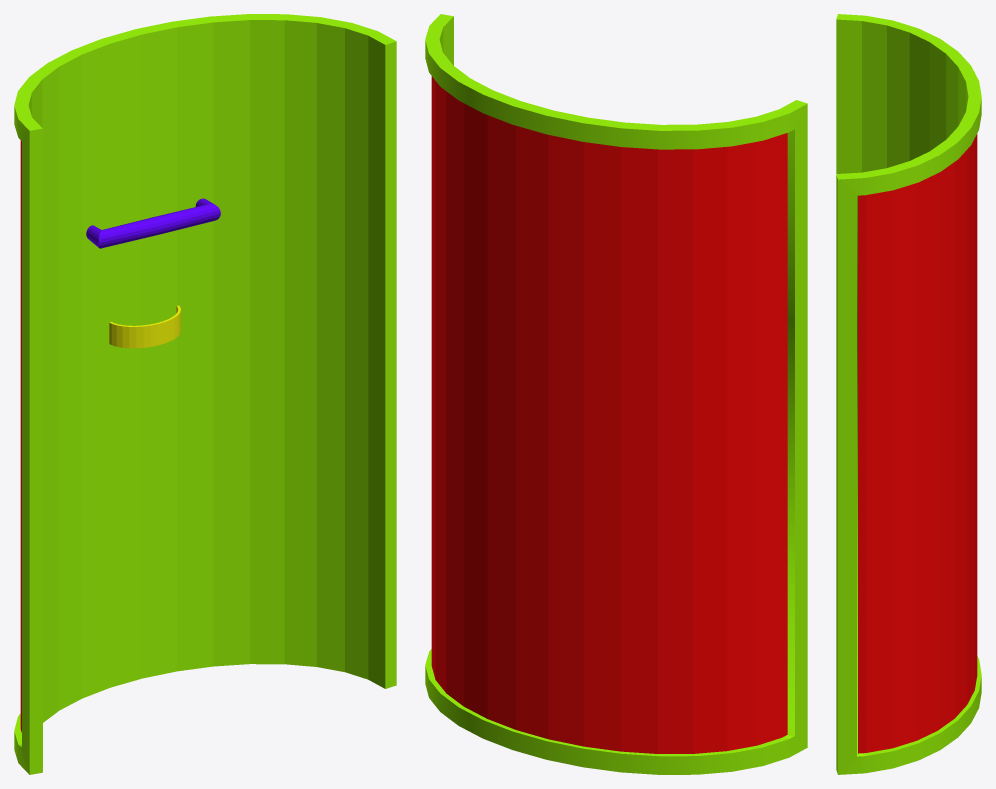
Rendered from Tower shield.fbx.
3 renders of one model, left to right at view 1: azimuth 30°, elevation 25°; view 2: azimuth 150°, elevation 25°; view 3: azimuth 270°, elevation 25°, orthographic. The views are drawn at different scales.
Parts seen in each view (by area): view 1: sheild; view 2: sheild; view 3: sheild.
Boxes of the visible parts, <box> form: sheild: <box>14,14,396,774</box>; sheild: <box>425,14,807,774</box>; sheild: <box>836,14,981,774</box>.
Bounding box in the file's own units: 104 × 174 × 38.61.
